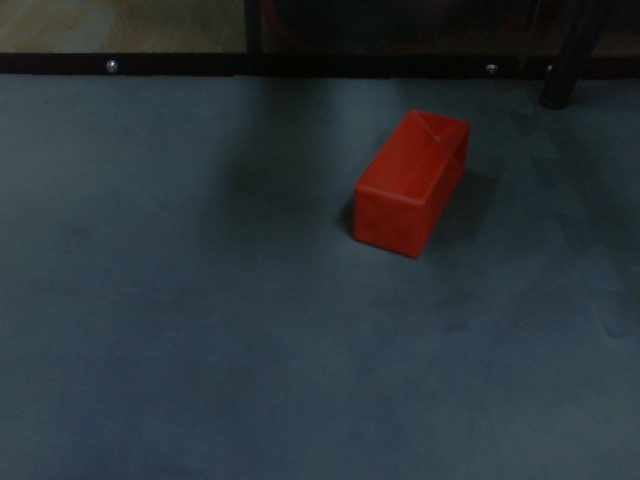RedSample: (348, 108, 471, 260)
